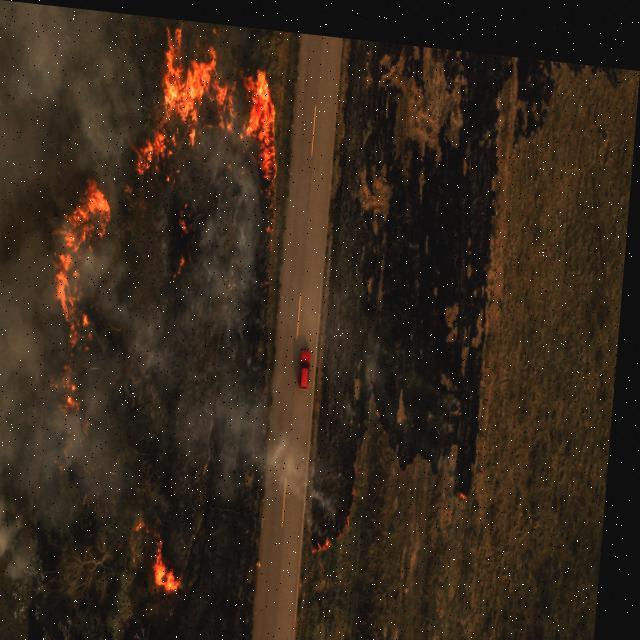Fire: (140, 24, 290, 202), (44, 169, 117, 407), (142, 517, 175, 558), (348, 478, 363, 532), (174, 248, 192, 274), (319, 528, 341, 546), (178, 206, 192, 231), (466, 478, 476, 488)
